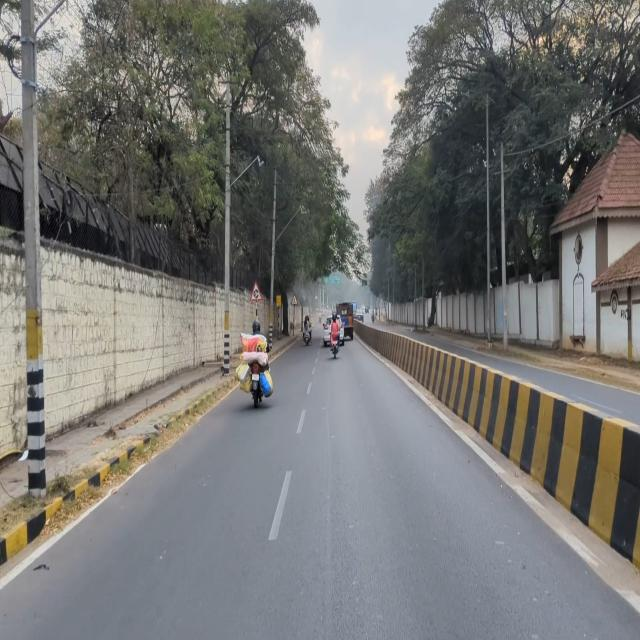bien_cam: (250, 278, 262, 302), (291, 293, 298, 306)
